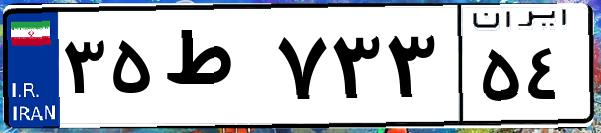3: (385, 28, 445, 110), (330, 28, 385, 110), (57, 26, 110, 100)
4: (525, 38, 570, 115)
5: (475, 38, 525, 113), (110, 28, 158, 98)
7: (270, 28, 330, 110)
ط: (158, 20, 270, 120)
